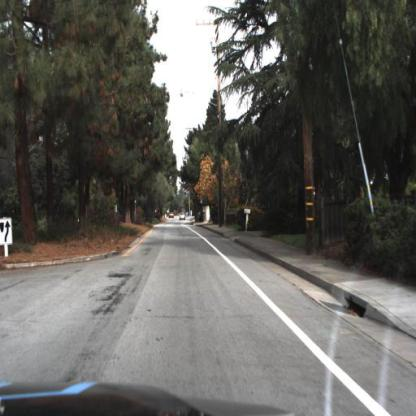car: (180, 210, 188, 223), (179, 212, 187, 224)
